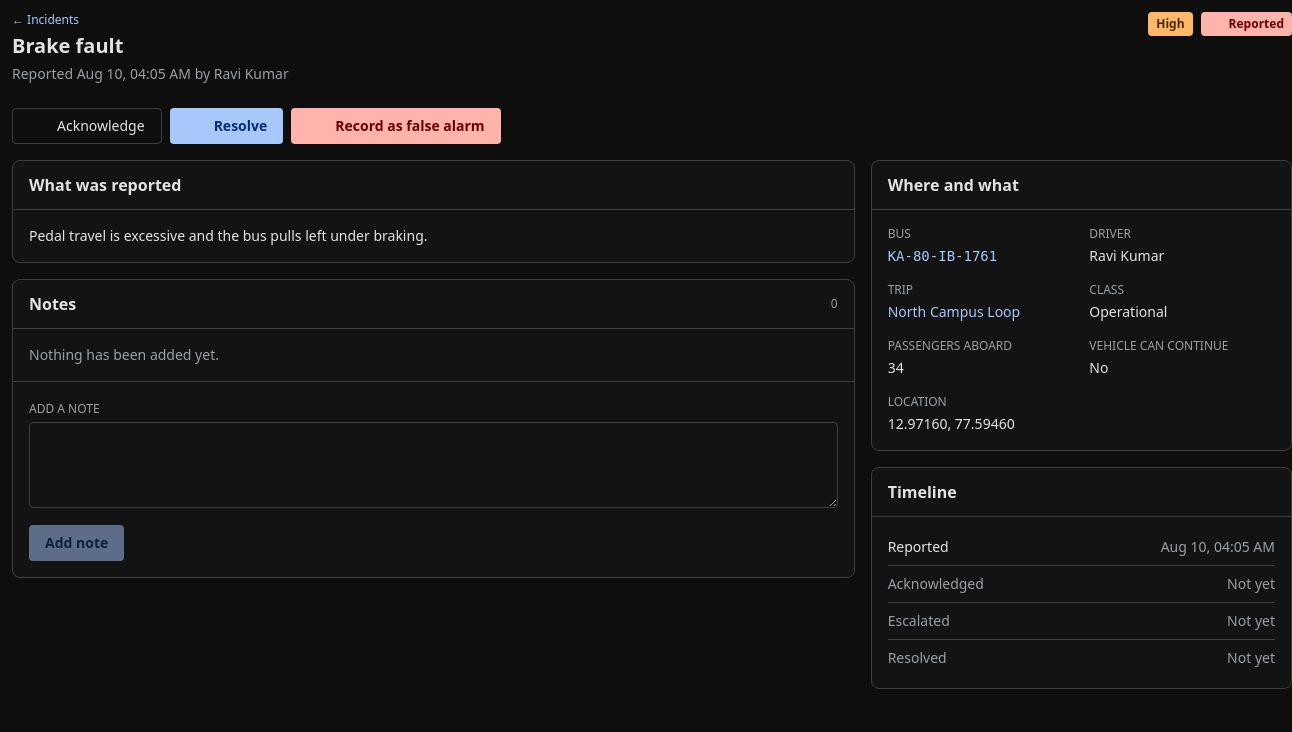
Test: when the server refuses › does not sign anybody out when the server says 403
The width and height of the screenshot is (1292, 732).
Expected: the heading "Brake fault" is shown, [12,32,123,59]
Click the button "Acknowledge": click(87, 126) [12,108,162,144]
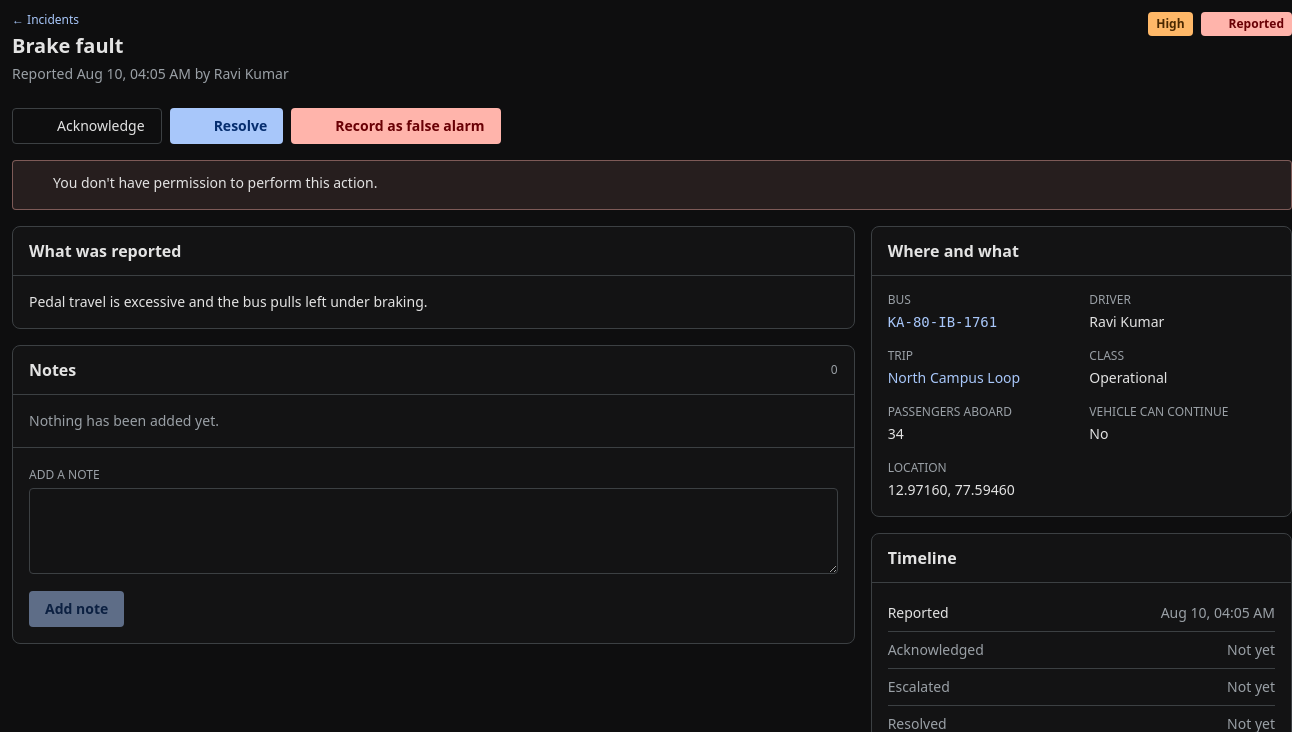
Now the text "You don't have permission to perform this action." is shown, box [53,173,377,193]
